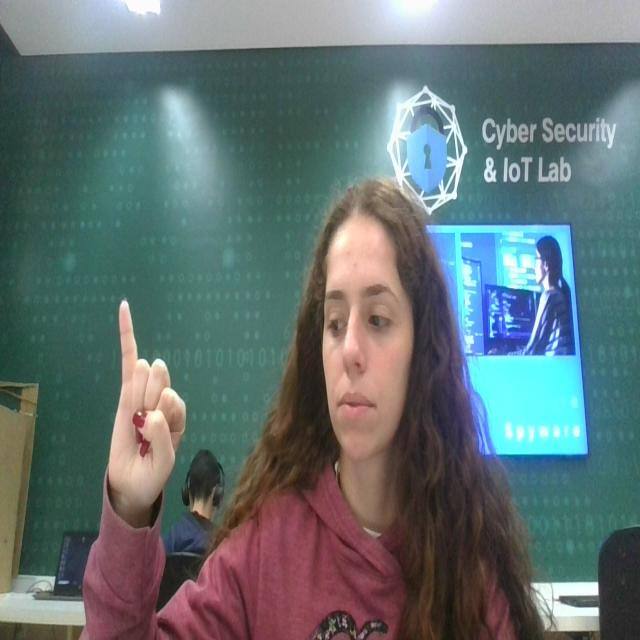I: (104, 289, 190, 522)
